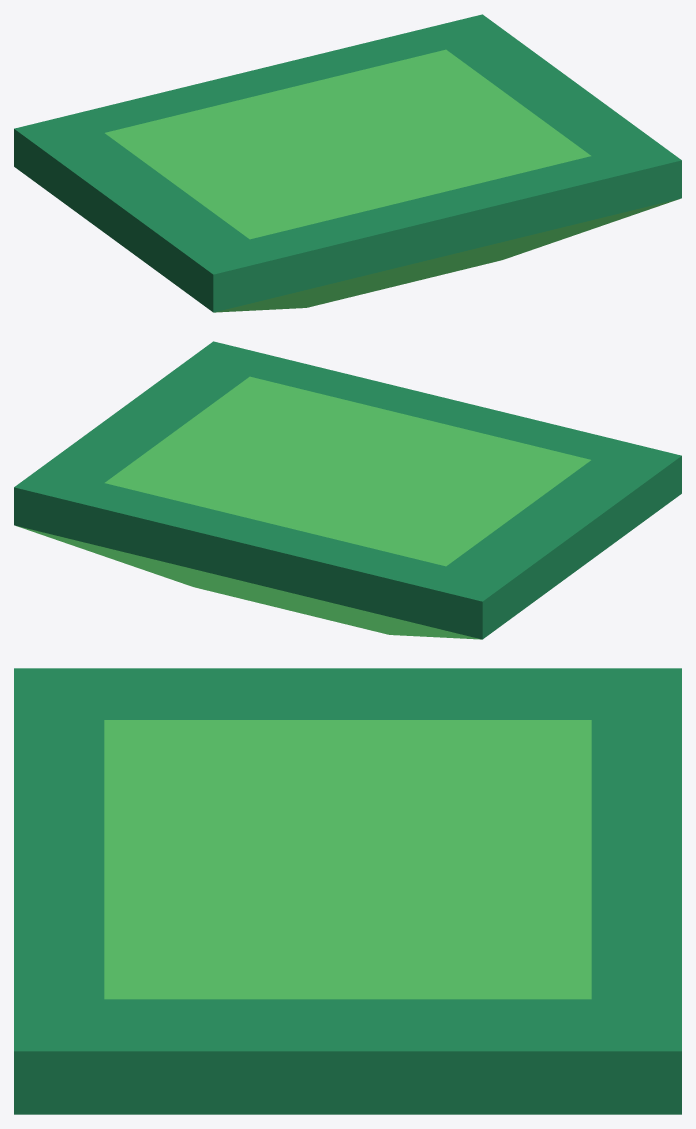
The model's file is small_platform.glb.
3 views of the same model, one above another, from view 1: azimuth 30°, elevation 25°; view 2: azimuth 150°, elevation 25°; view 3: azimuth 270°, elevation 25° (orthographic). The views are drawn at different scales.
Parts seen in each view (by area): view 1: Cube; view 2: Cube; view 3: Cube.
Part boxes in pixels (x1,y1,x2,y2): Cube: (14, 14, 681, 312); Cube: (14, 341, 681, 639); Cube: (14, 668, 681, 1114).
Bounding box in the file's own units: 2.58 × 0.5171 × 1.9.
